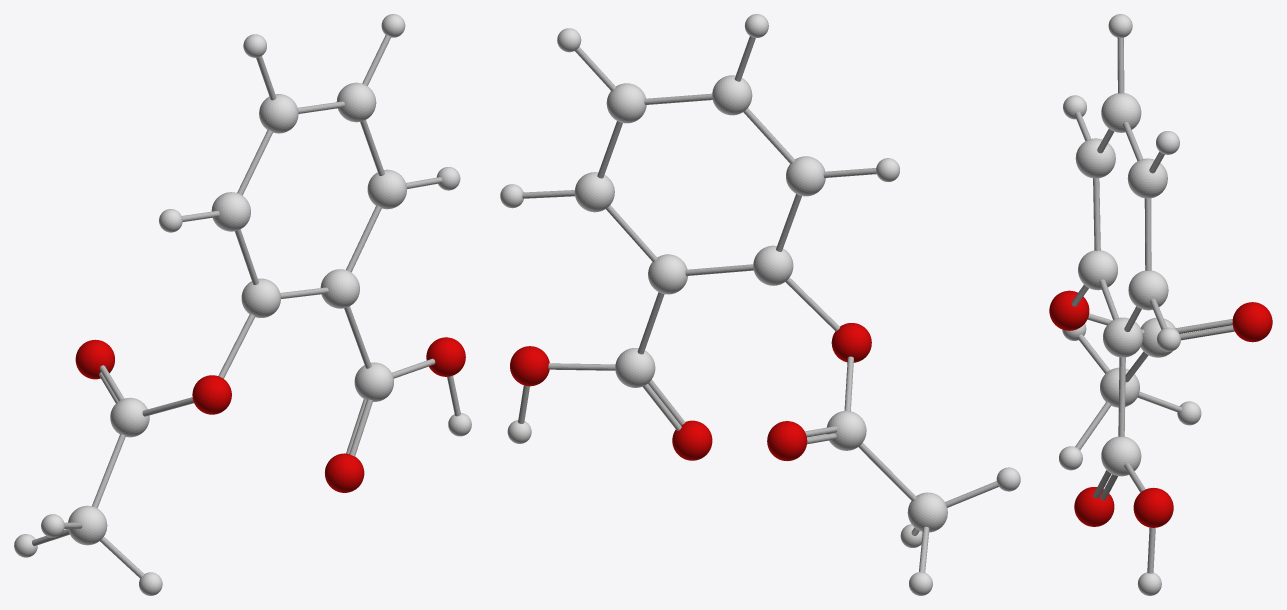
File: CC__O_Oc1ccccc1C__O_O.glb
3 views of the same model, side by side, from view 1: azimuth 30°, elevation 25°; view 2: azimuth 150°, elevation 25°; view 3: azimuth 270°, elevation 25° (orthographic).
Visible parts, largest first — view 1: world; view 2: world; view 3: world.
Part boxes in pixels (x1=…): world: x1=14, y1=14, x2=471, y2=595; world: x1=500, y1=14, x2=1020, y2=595; world: x1=1049, y1=14, x2=1272, y2=595.
Bounding box in the file's own units: 6.79 × 7.12 × 2.78.
